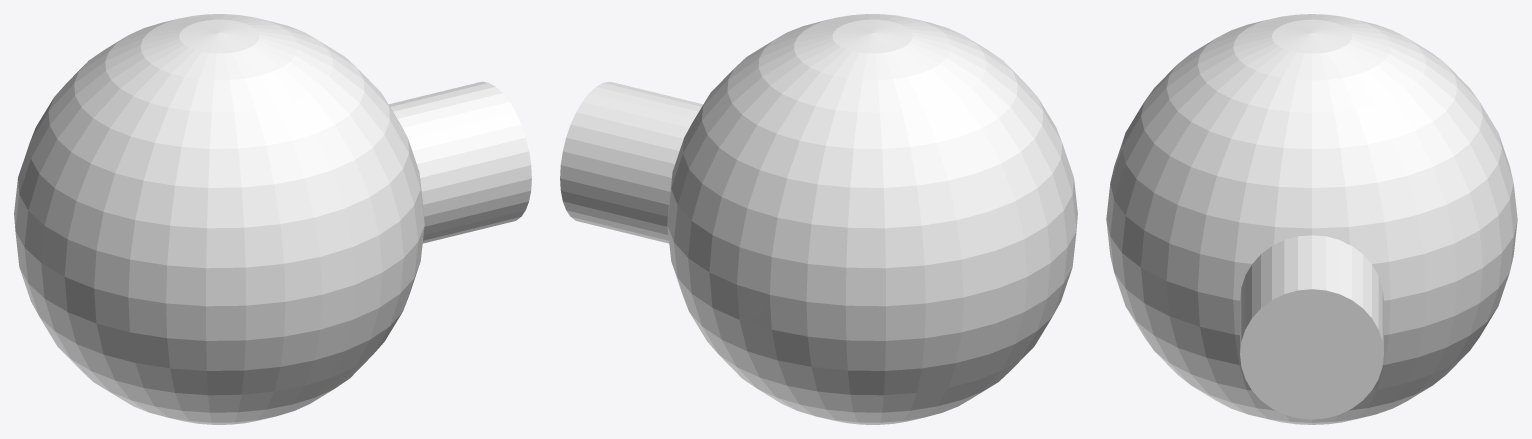
The model's file is enemy3D.obj.
3 renders of one model, left to right at view 1: azimuth 30°, elevation 25°; view 2: azimuth 150°, elevation 25°; view 3: azimuth 270°, elevation 25°, orthographic.
Visible parts, largest first — view 1: 球, 円柱; view 2: 球, 円柱; view 3: 球, 円柱.
Part boxes in pixels (box(x1,y1,x2,y2)): 球: box(14, 14, 424, 424); 円柱: box(388, 81, 531, 243); 球: box(667, 14, 1077, 424); 円柱: box(560, 81, 703, 243); 球: box(1106, 14, 1517, 424); 円柱: box(1240, 235, 1383, 419).
Bounding box in the file's own units: 5.1 × 4 × 4.
Materials: 2 (2 with a texture image).
